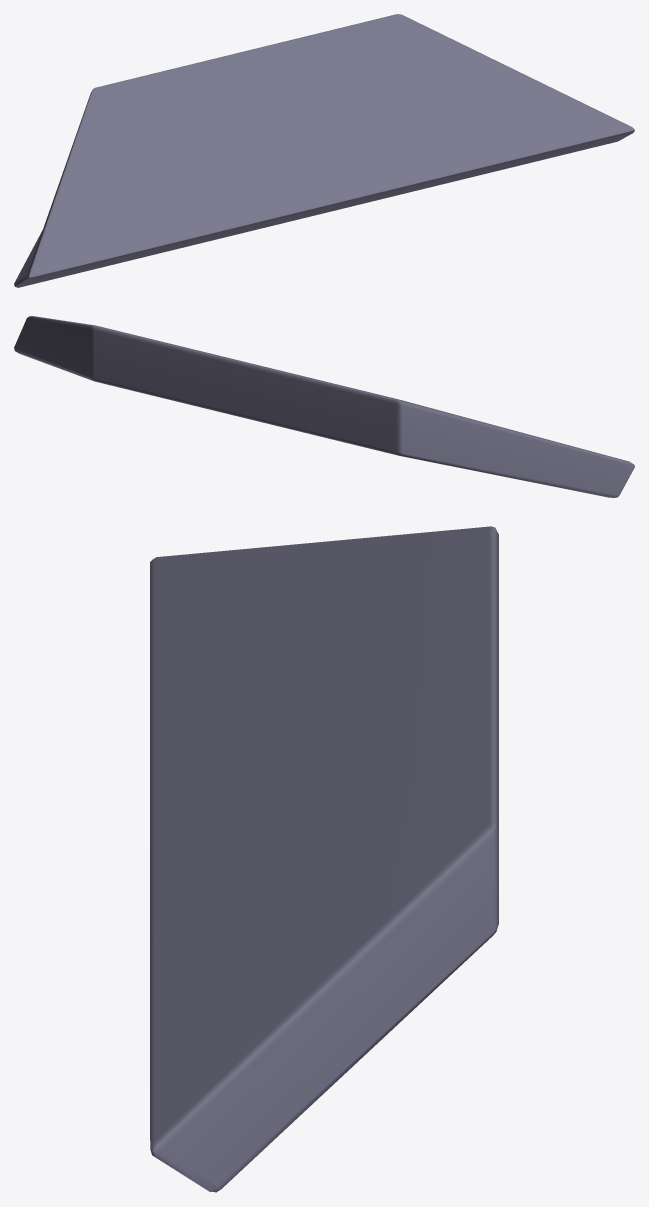
Rendered from SM_BalconyThingU.fbx.
3 views of the same model, one above another, from view 1: azimuth 30°, elevation 25°; view 2: azimuth 150°, elevation 25°; view 3: azimuth 270°, elevation 25° (orthographic). The views are drawn at different scales.
Visible parts, largest first — view 1: pCube13; view 2: pCube13; view 3: pCube13.
Part boxes in pixels (left/top/right/bottom): pCube13: left=14, top=14, right=634, bottom=287; pCube13: left=14, top=316, right=634, bottom=497; pCube13: left=150, top=526, right=498, bottom=1192.
Bounding box in the file's own units: 395 × 70.06 × 98.24.
